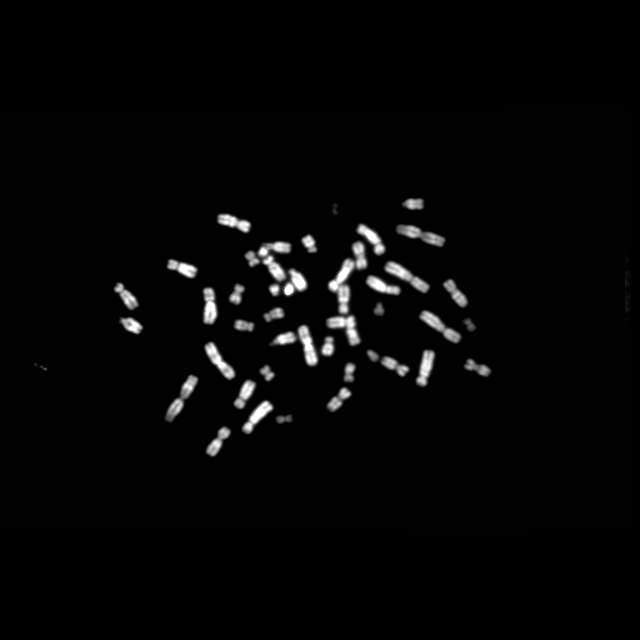chromosome: (165, 374, 197, 422), (384, 262, 430, 292), (420, 310, 460, 344), (206, 342, 234, 380), (396, 224, 444, 246), (242, 401, 274, 434), (356, 224, 384, 254), (329, 260, 355, 292), (298, 325, 318, 365), (444, 278, 468, 308), (366, 276, 400, 296), (217, 214, 251, 234), (114, 282, 138, 310), (208, 428, 230, 458), (417, 350, 435, 386), (234, 379, 256, 408), (327, 387, 351, 413), (262, 255, 286, 281), (167, 258, 197, 278), (381, 356, 409, 376), (202, 287, 216, 323), (464, 359, 490, 376), (288, 269, 308, 291), (346, 320, 362, 346), (354, 243, 368, 269), (270, 332, 296, 346), (338, 284, 350, 314), (326, 316, 356, 328), (120, 318, 142, 334), (302, 235, 318, 253), (266, 241, 290, 253), (264, 308, 284, 322), (230, 284, 244, 304), (342, 363, 356, 382), (321, 336, 334, 356), (260, 366, 274, 382), (235, 320, 253, 332), (402, 199, 422, 209), (245, 252, 259, 266), (464, 318, 476, 332), (277, 414, 293, 424), (366, 350, 379, 362), (268, 284, 280, 296), (374, 302, 384, 316), (284, 282, 294, 296), (258, 246, 268, 256)
